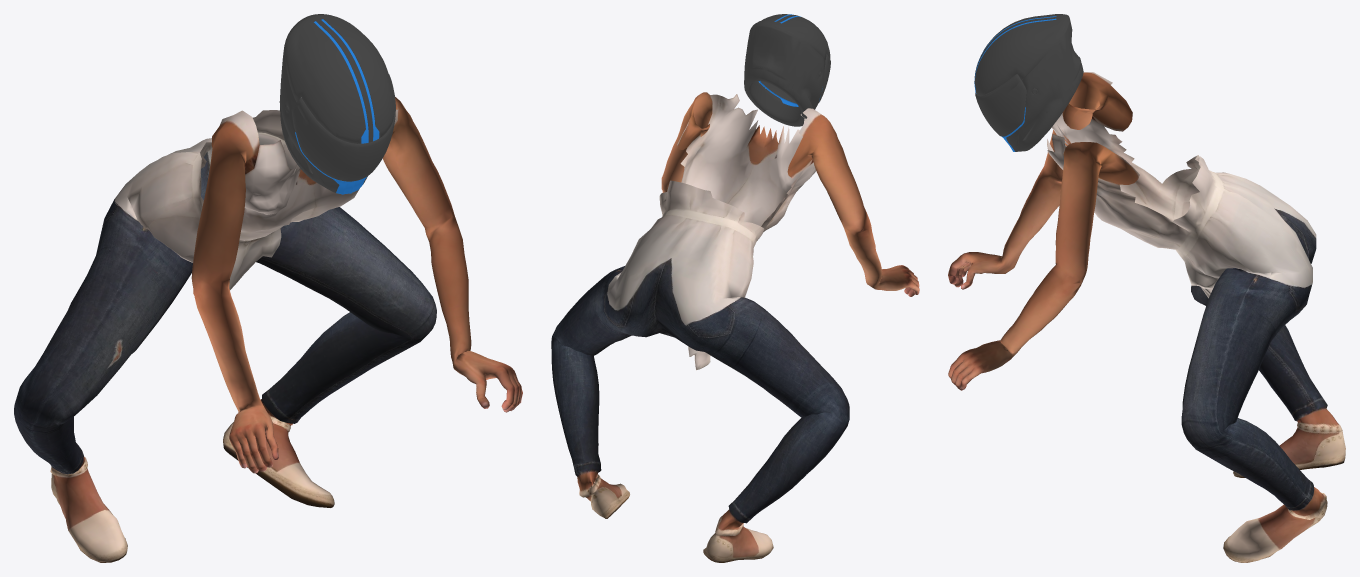
3 views of the same model, side by side, from view 1: azimuth 30°, elevation 25°; view 2: azimuth 150°, elevation 25°; view 3: azimuth 270°, elevation 25° (orthographic). The views are drawn at different scales.
Parts seen in each view (by area): view 1: rider, helmet; view 2: rider, helmet; view 3: rider, helmet.
Part boxes in pixels (bbox=[...]): rider: bbox=[14, 97, 522, 562]; helmet: bbox=[279, 14, 395, 194]; rider: bbox=[551, 92, 919, 562]; helmet: bbox=[744, 14, 830, 126]; rider: bbox=[948, 72, 1345, 562]; helmet: bbox=[974, 14, 1083, 151].
Bounding box in the file's own units: 0.868 × 1.24 × 0.8941.
2 materials, 2 textured.
